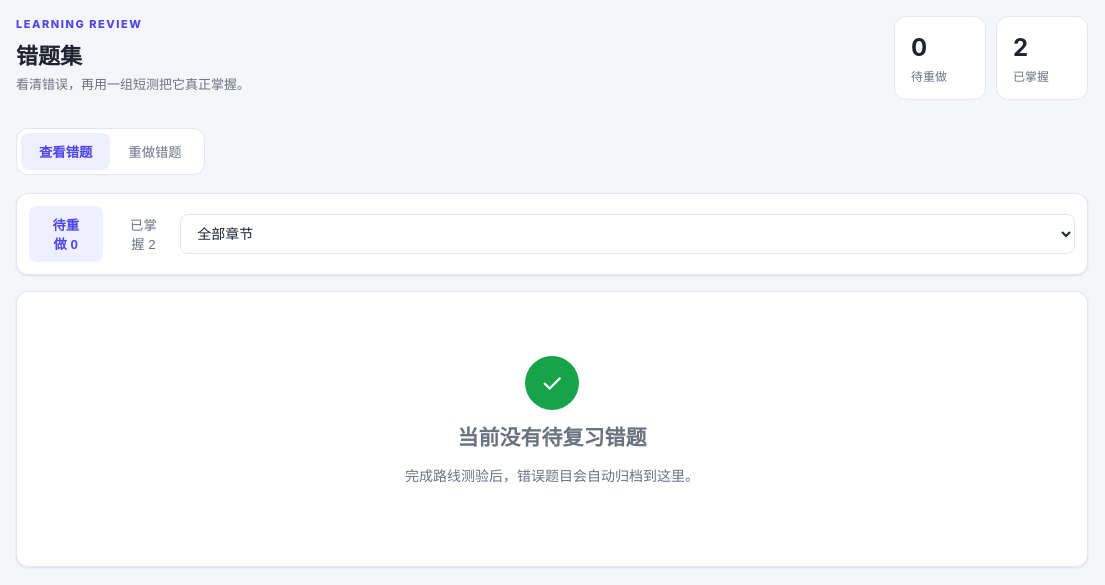
Scenario: wrong question book › shows the completion state when no active wrong questions remain
Click the button with test id "redo-tab".
click(155, 152)  # box left=110, top=133, right=200, bottom=170
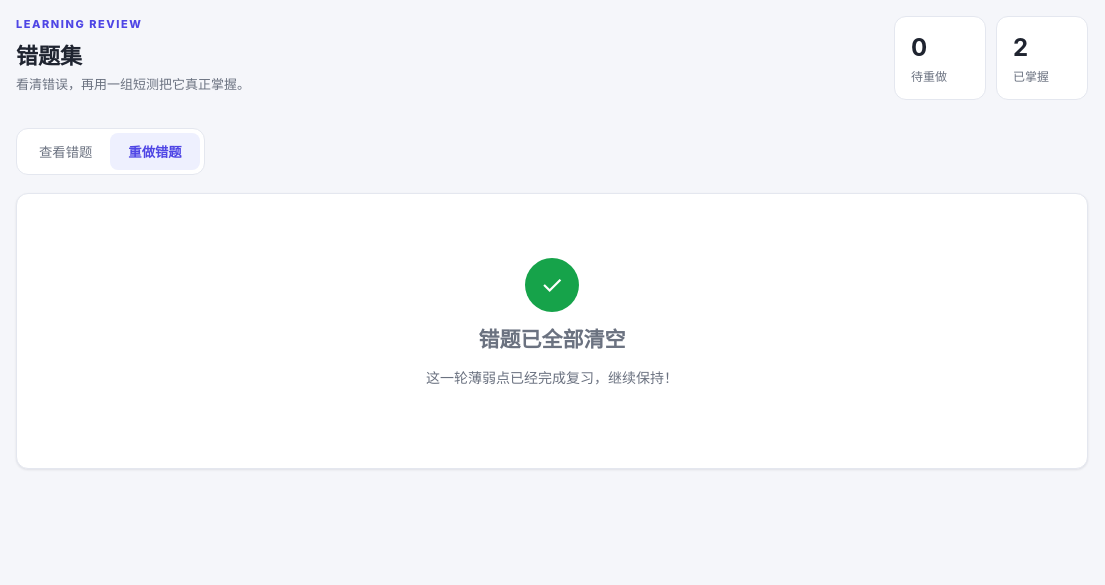
Check: the text "错题已全部清空" is shown, box left=478, top=327, right=626, bottom=352
